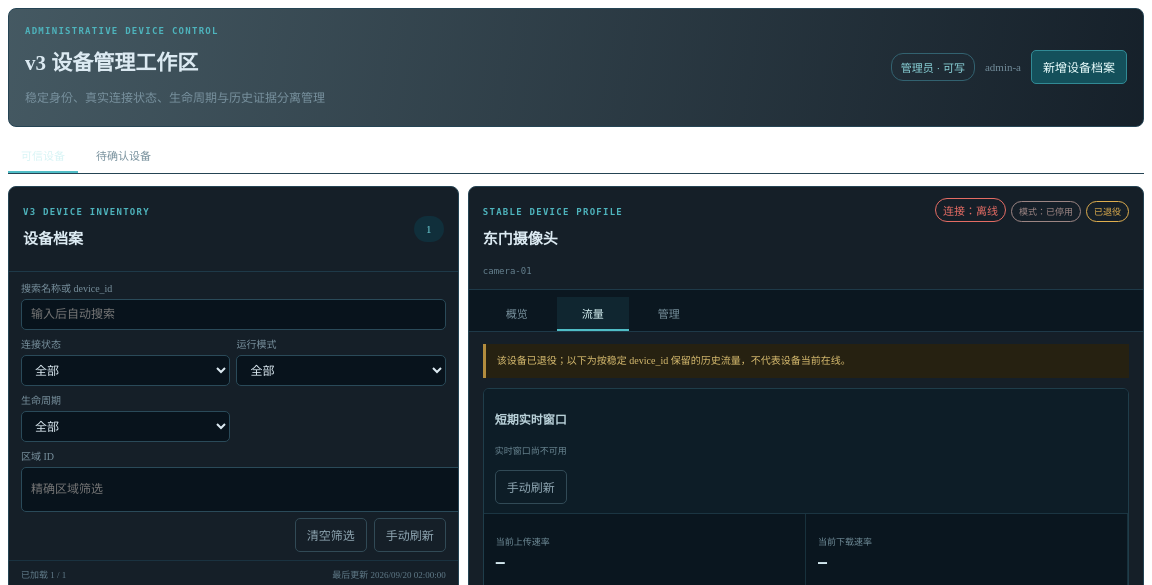
Test case: DevicesPage permissions and server-backed interactions › does not imply online after restoring a retired device
This screenshot has width=1152, height=585.
Click the tab "管理".
click(669, 314)  # box [633,297,705,331]
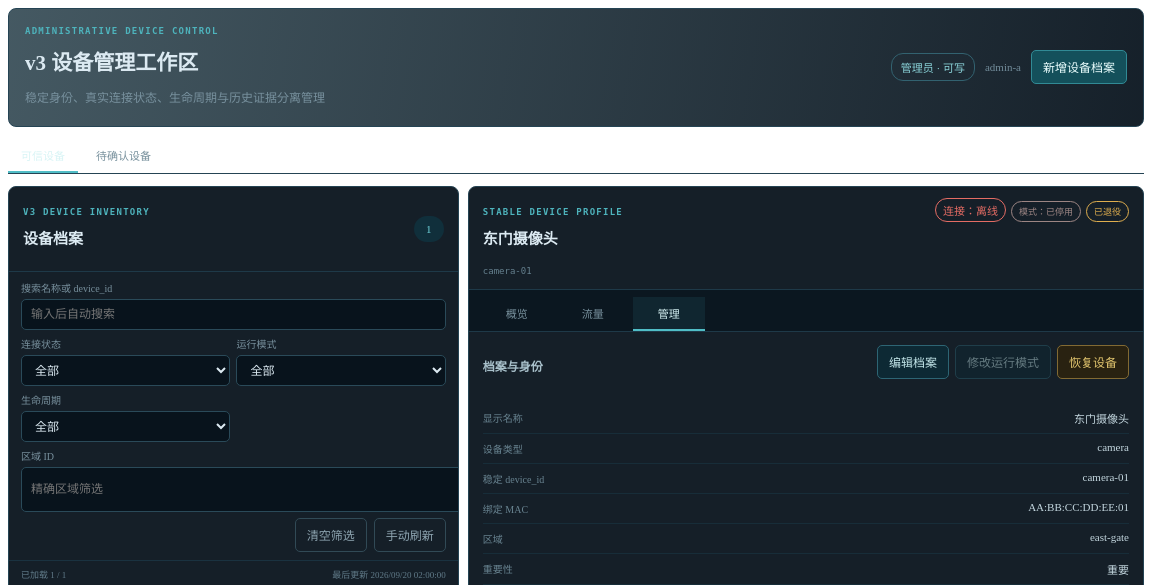
Click the button "恢复设备".
click(1093, 362)  # box [1057,345,1129,379]
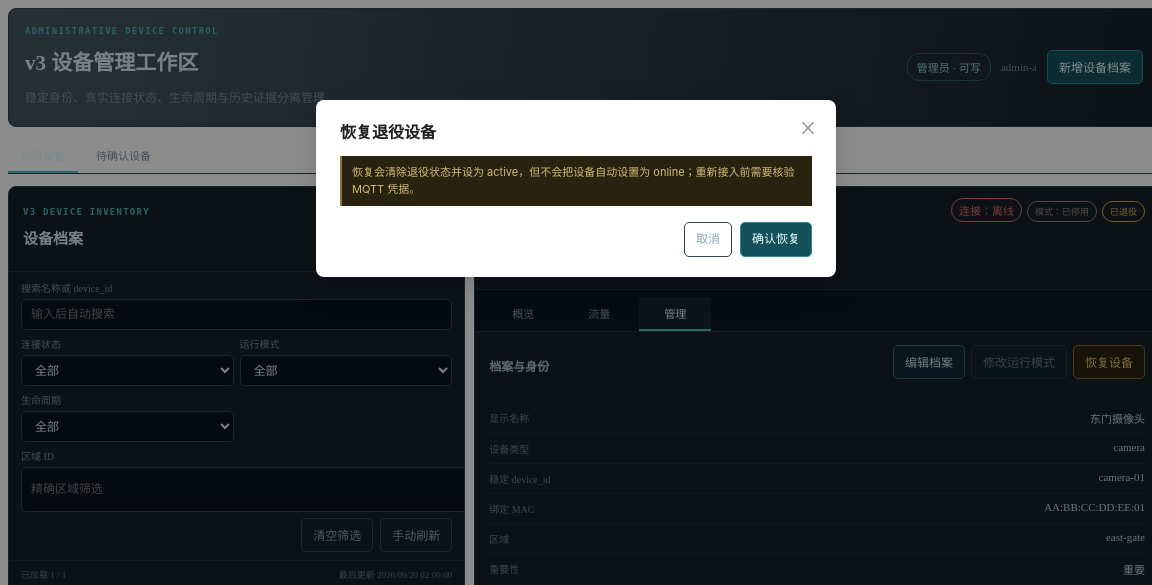
Expected: the text "恢复会清除退役状态并设为 active，但不会把设备自动设置为 online；重新接入前需要核验 MQTT 凭据。" is shown, [340,156,812,206]
Click the button "确认恢复".
click(776, 240)  # box [740,222,812,257]
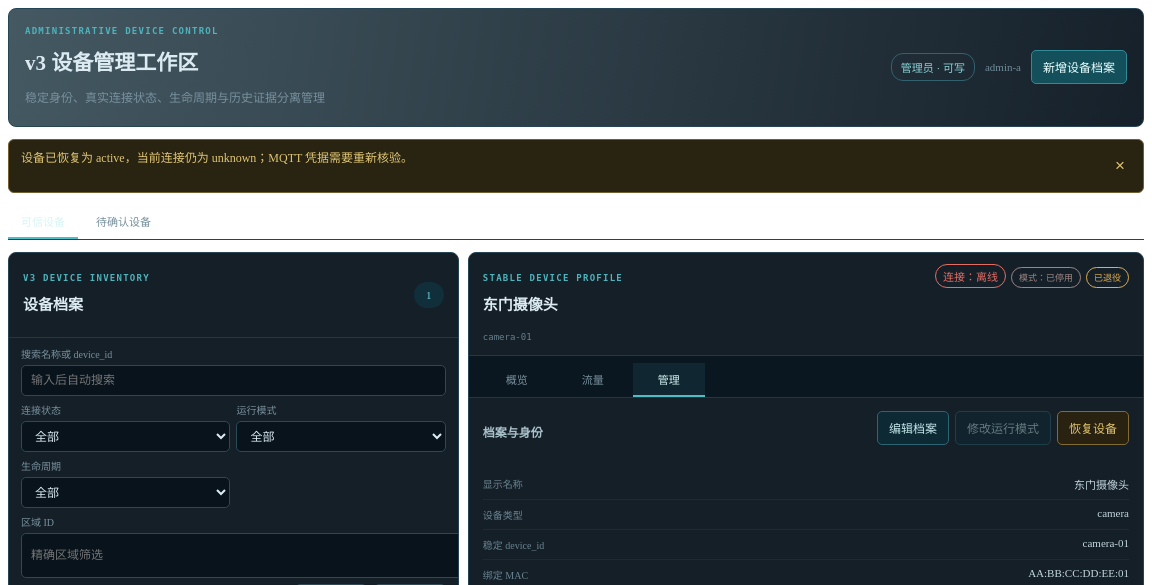
Expected: the message shows "当前连接仍为 unknown", [21,151,413,165]
Expected: the message shows "MQTT 凭据需要重新核验", [21,151,413,165]
